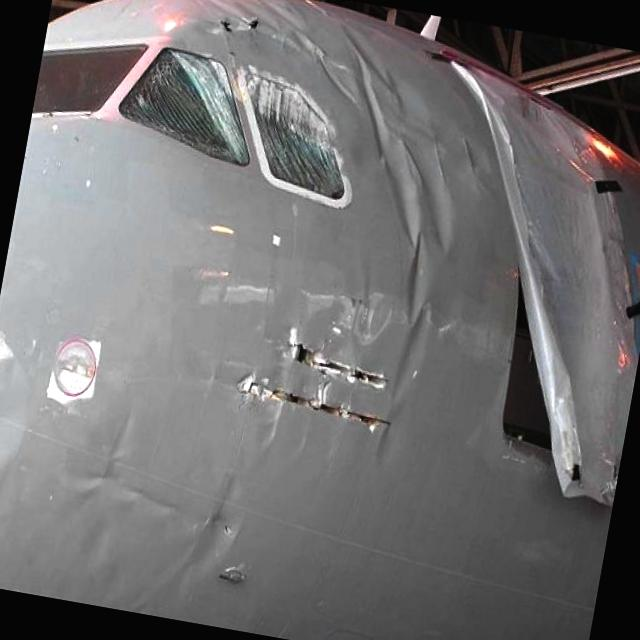crack: (228, 318, 410, 442)
